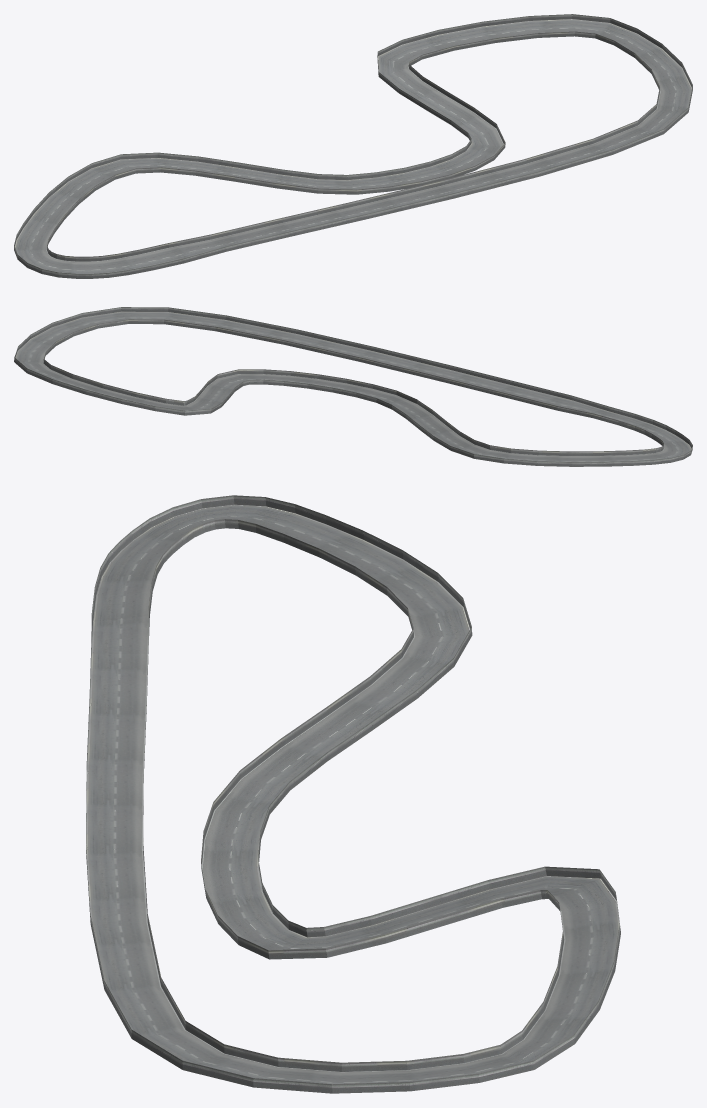
Rendered from track0.obj.
3 renders of one model, top to bottom at view 1: azimuth 30°, elevation 25°; view 2: azimuth 150°, elevation 25°; view 3: azimuth 270°, elevation 25°, orthographic. The views are drawn at different scales.
Parts seen in each view (by area): view 1: Mesh_Loft001; view 2: Mesh_Loft001; view 3: Mesh_Loft001.
Boxes of the visible parts, x1=… form: Mesh_Loft001: x1=14, y1=14, x2=692, y2=278; Mesh_Loft001: x1=14, y1=307, x2=692, y2=466; Mesh_Loft001: x1=86, y1=495, x2=620, y2=1093.
Size of the model in its own units: 15.48 by 0.8129 by 5.89.
Materials: 1 (1 with a texture image).
